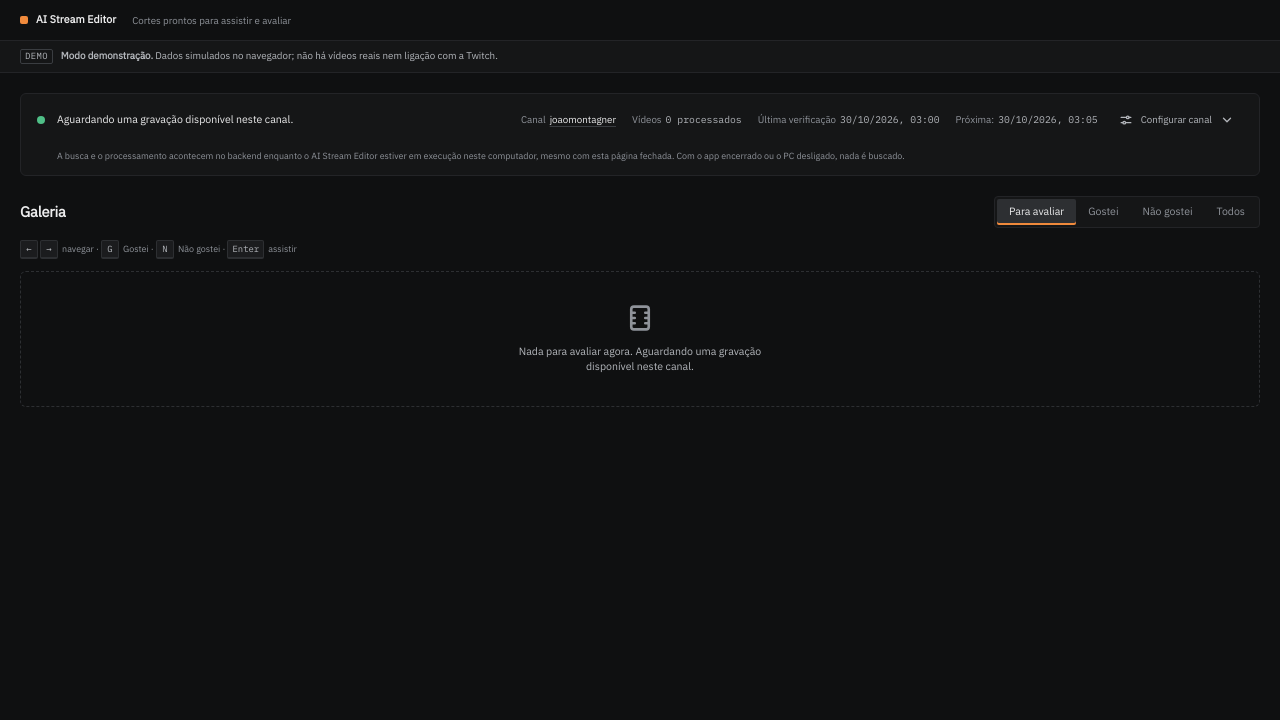
Galeria: estados da automação › configura o canal com validação e mostra a recusa do backend
Expected: the text "Aguardando uma gravação disponível neste canal." is shown, [57, 112, 293, 126]
Click the button "Configurar canal" at (1176, 120), box [1110, 106, 1243, 134]
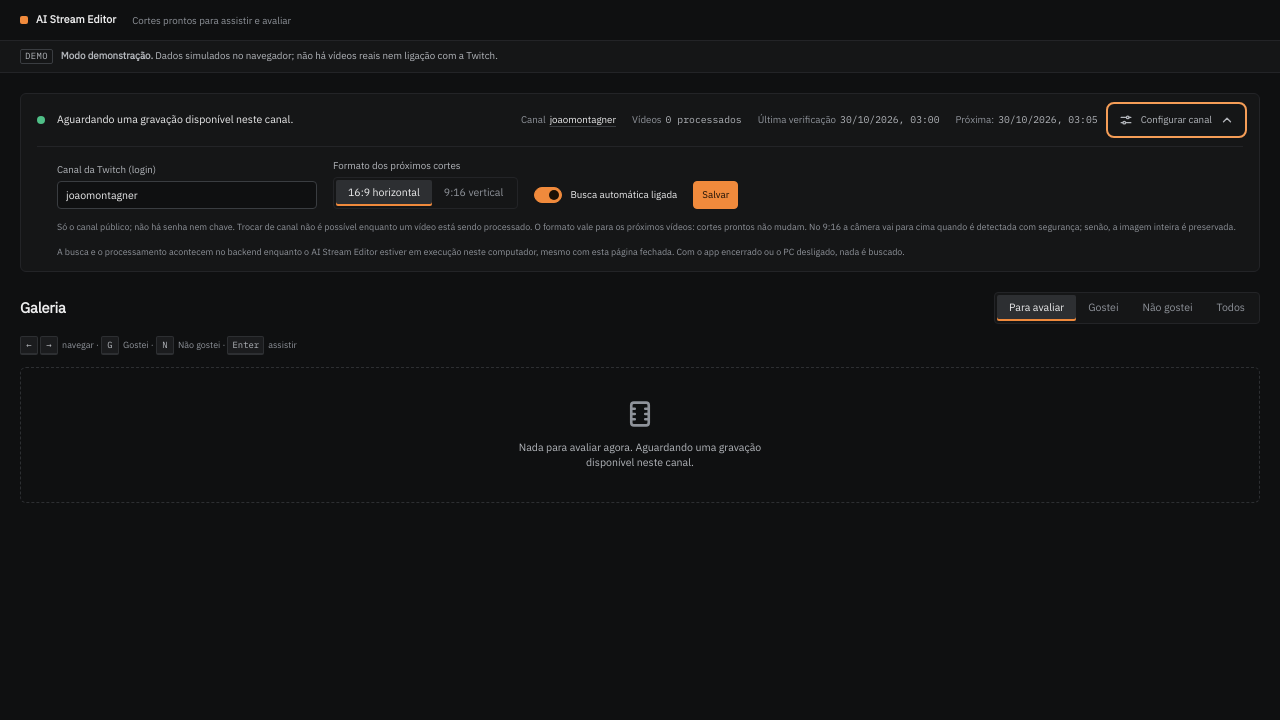
Replace the text in the field labelled "Canal da Twitch (login)" with "Nome Inválido!" at (187, 195), box [57, 181, 317, 209]
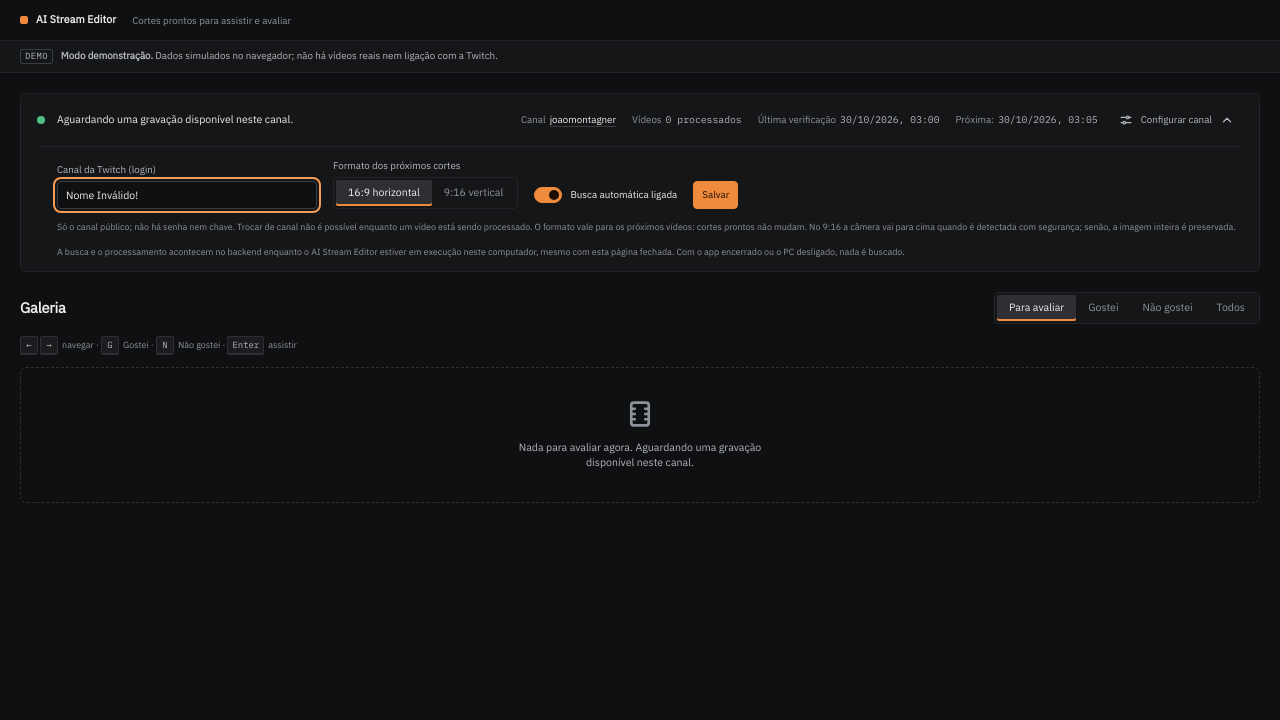
Click the button "Salvar" at (716, 195), box [693, 181, 738, 209]
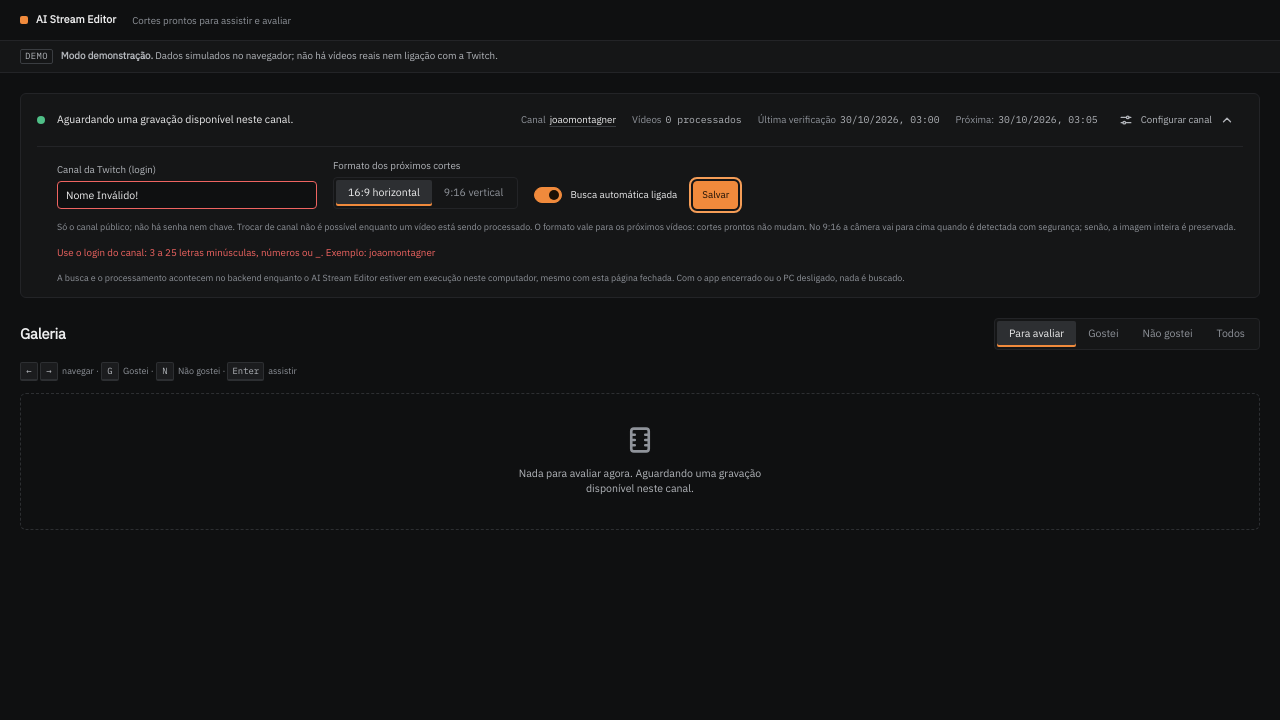
Result: the text "Use o login do canal" is shown at [57, 246, 435, 259]
Replace the text in the field labelled "Canal da Twitch (login)" with "https://www.twitch.tv/outro_canal" at (187, 195), box [57, 181, 317, 209]
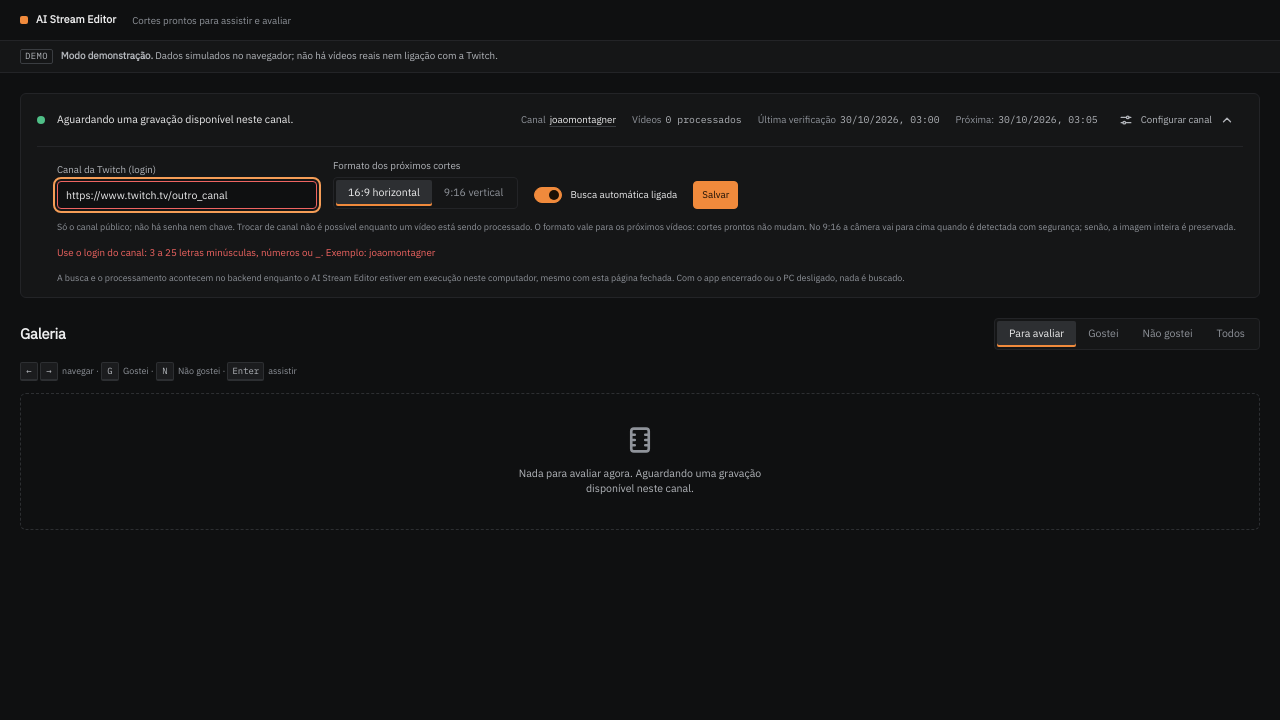
Click the button "Salvar" at (716, 195), box [693, 181, 738, 209]
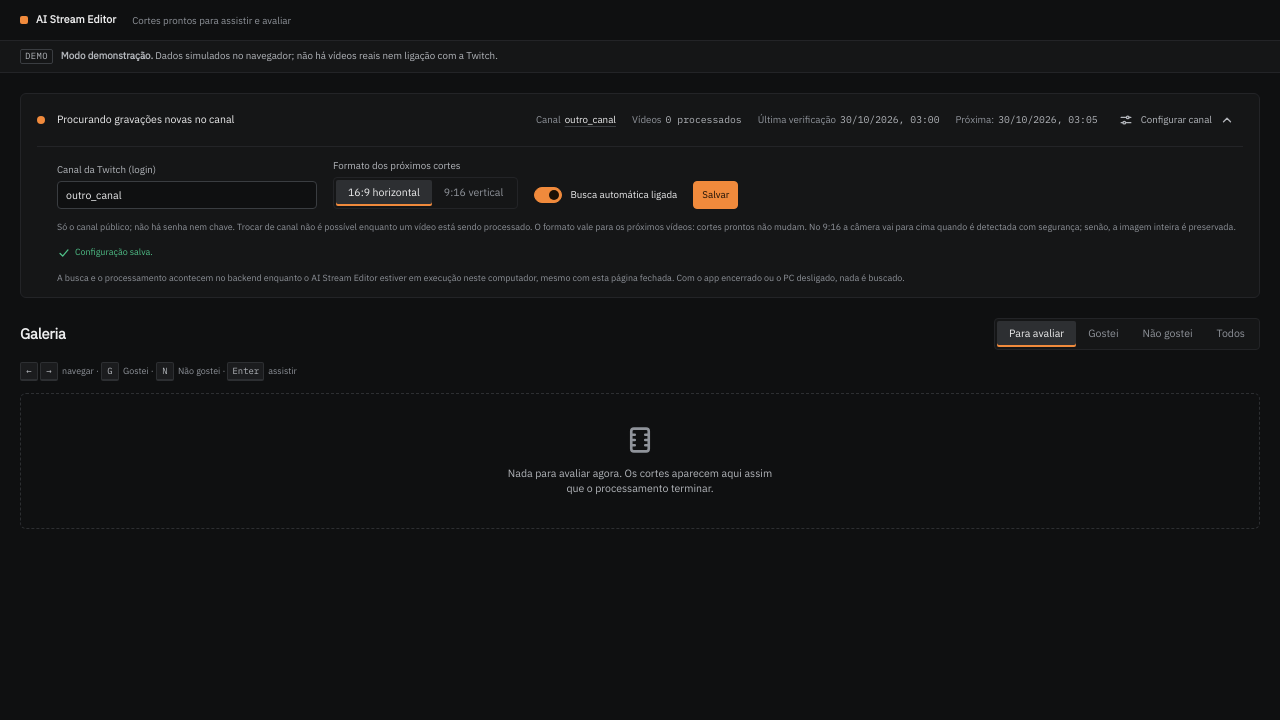
Result: the text "Configuração salva." is shown at [57, 246, 153, 260]
Result: the link "outro_canal" is shown at [565, 113, 616, 126]
Result: the text "Procurando gravações novas no canal" is shown at [57, 112, 234, 126]
